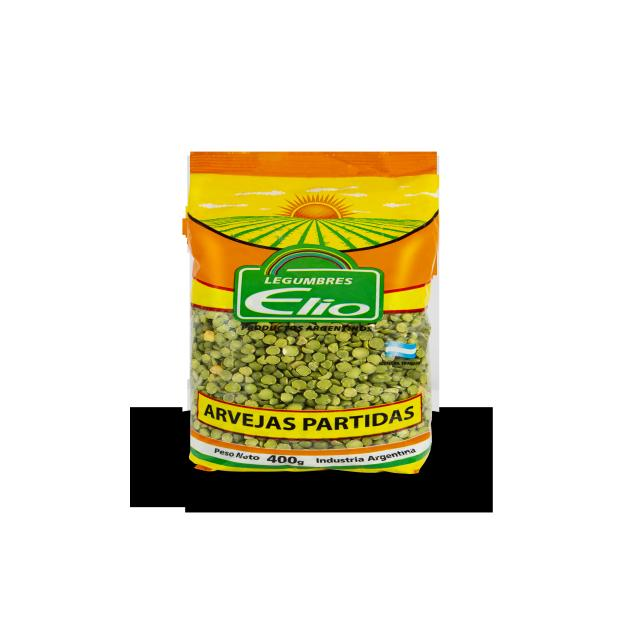arvejas: (202, 327, 367, 399)
